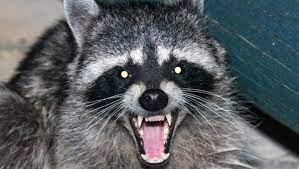raccoon: (0, 0, 284, 169)
